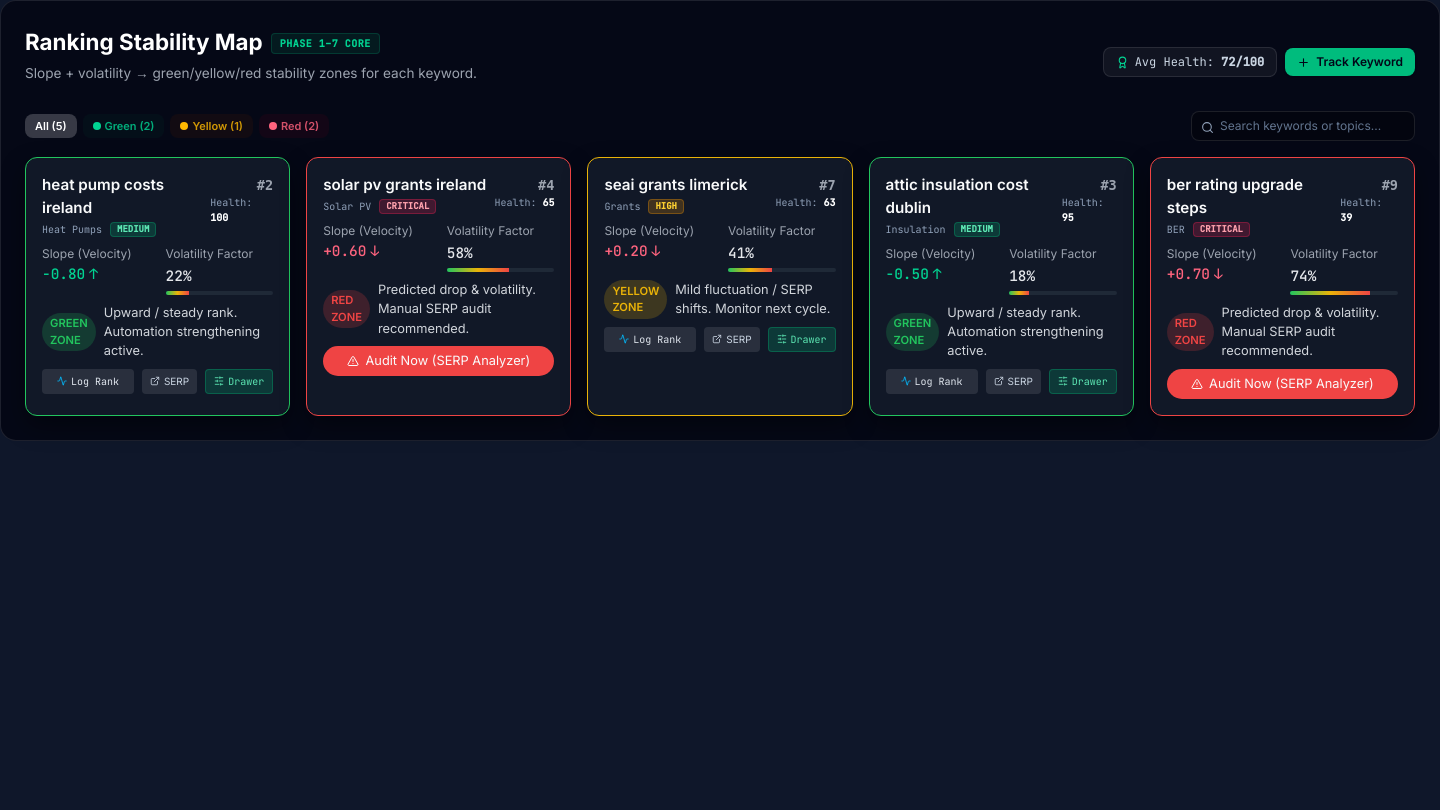
Test: Phase Group 5 — Dashboard & UX Components (Phases 35–42) › Phase 39 & 36 — Stability Map UI & Keyword Drawer › opens Keyword Intelligence Drawer and displays multi-period forecast trajectories
The width and height of the screenshot is (1440, 810).
expect the text "Drawer" below "22" is shown: met, box [228,375,264,388]
What coordinates should you click on to do the following:
click the button "Drawer" below "22"
I would click on:
 (239, 381)
Its box is [205,369,273,394].
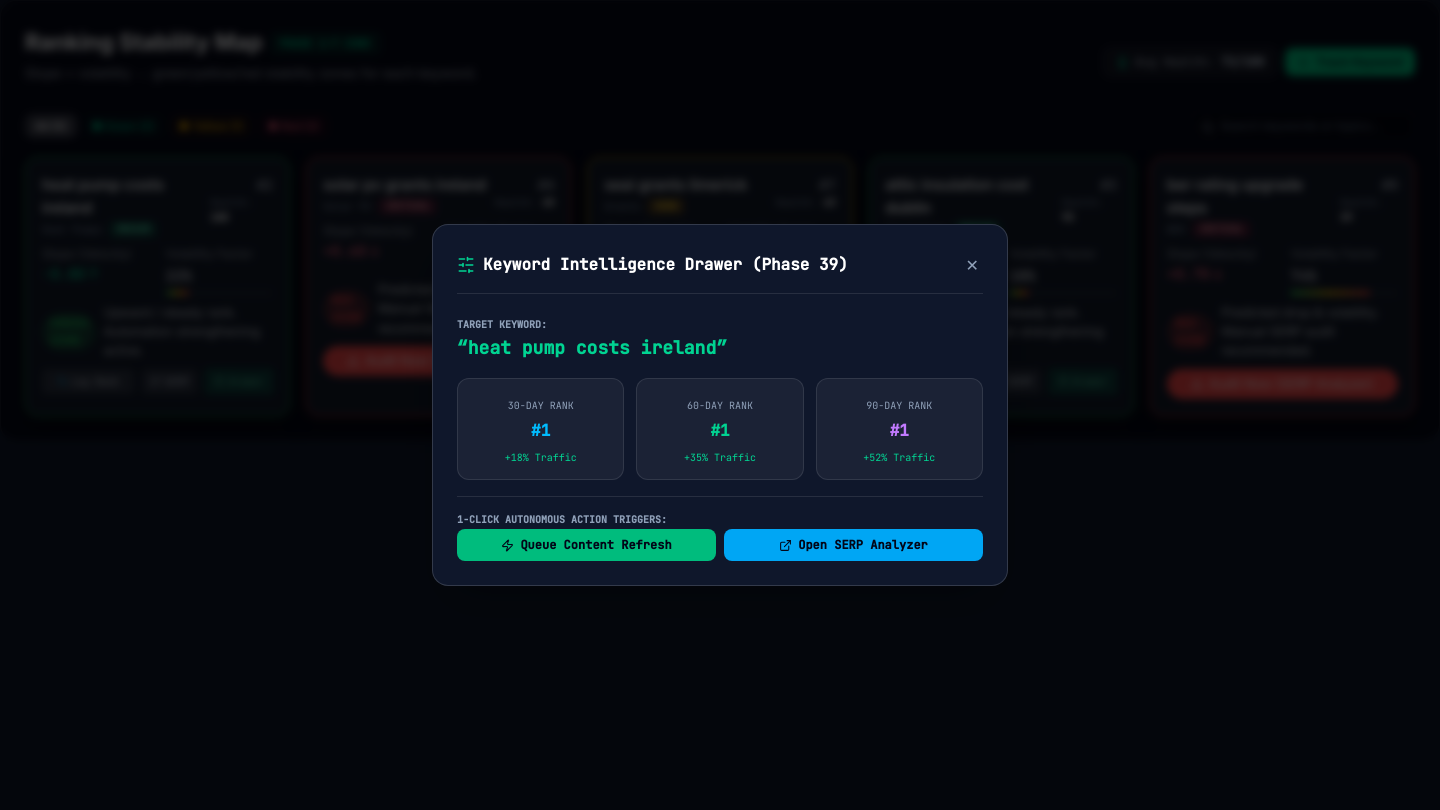
expect the heading "Keyword Intelligence Drawer (Phase 39)" is shown: met, box [483,253,848,277]
expect the text "30-Day Rank" is shown: met, box [508,399,574,412]
expect the text "60-Day Rank" is shown: met, box [687,399,753,412]
